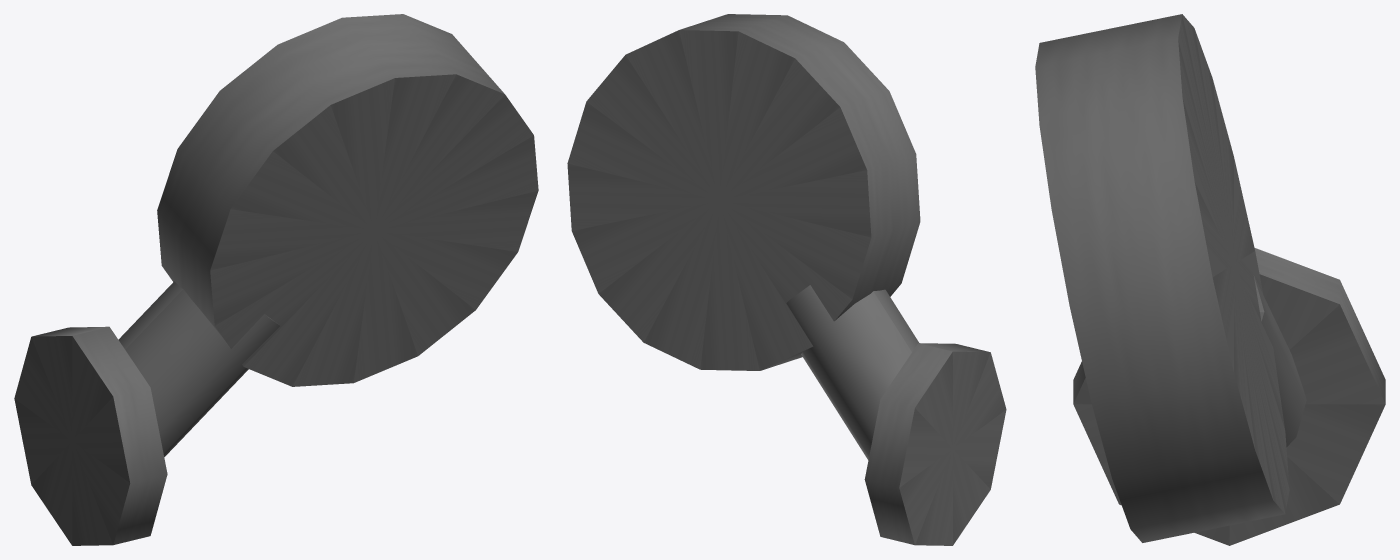
File: mastarmcurve_10x2_c5_west.obj
3 views of the same model, side by side, from view 1: azimuth 30°, elevation 25°; view 2: azimuth 150°, elevation 25°; view 3: azimuth 270°, elevation 25° (orthographic). The views are drawn at different scales.
Parts seen in each view (by area): view 1: mastarm_10x2_c5_west; view 2: mastarm_10x2_c5_west; view 3: mastarm_10x2_c5_west.
Part boxes in pixels (x1,y1,x2,y2): mastarm_10x2_c5_west: [14, 14, 538, 545]; mastarm_10x2_c5_west: [567, 14, 1006, 545]; mastarm_10x2_c5_west: [1035, 14, 1385, 545].
Bounding box in the file's own units: 0.8266 × 0.9157 × 0.4488.
